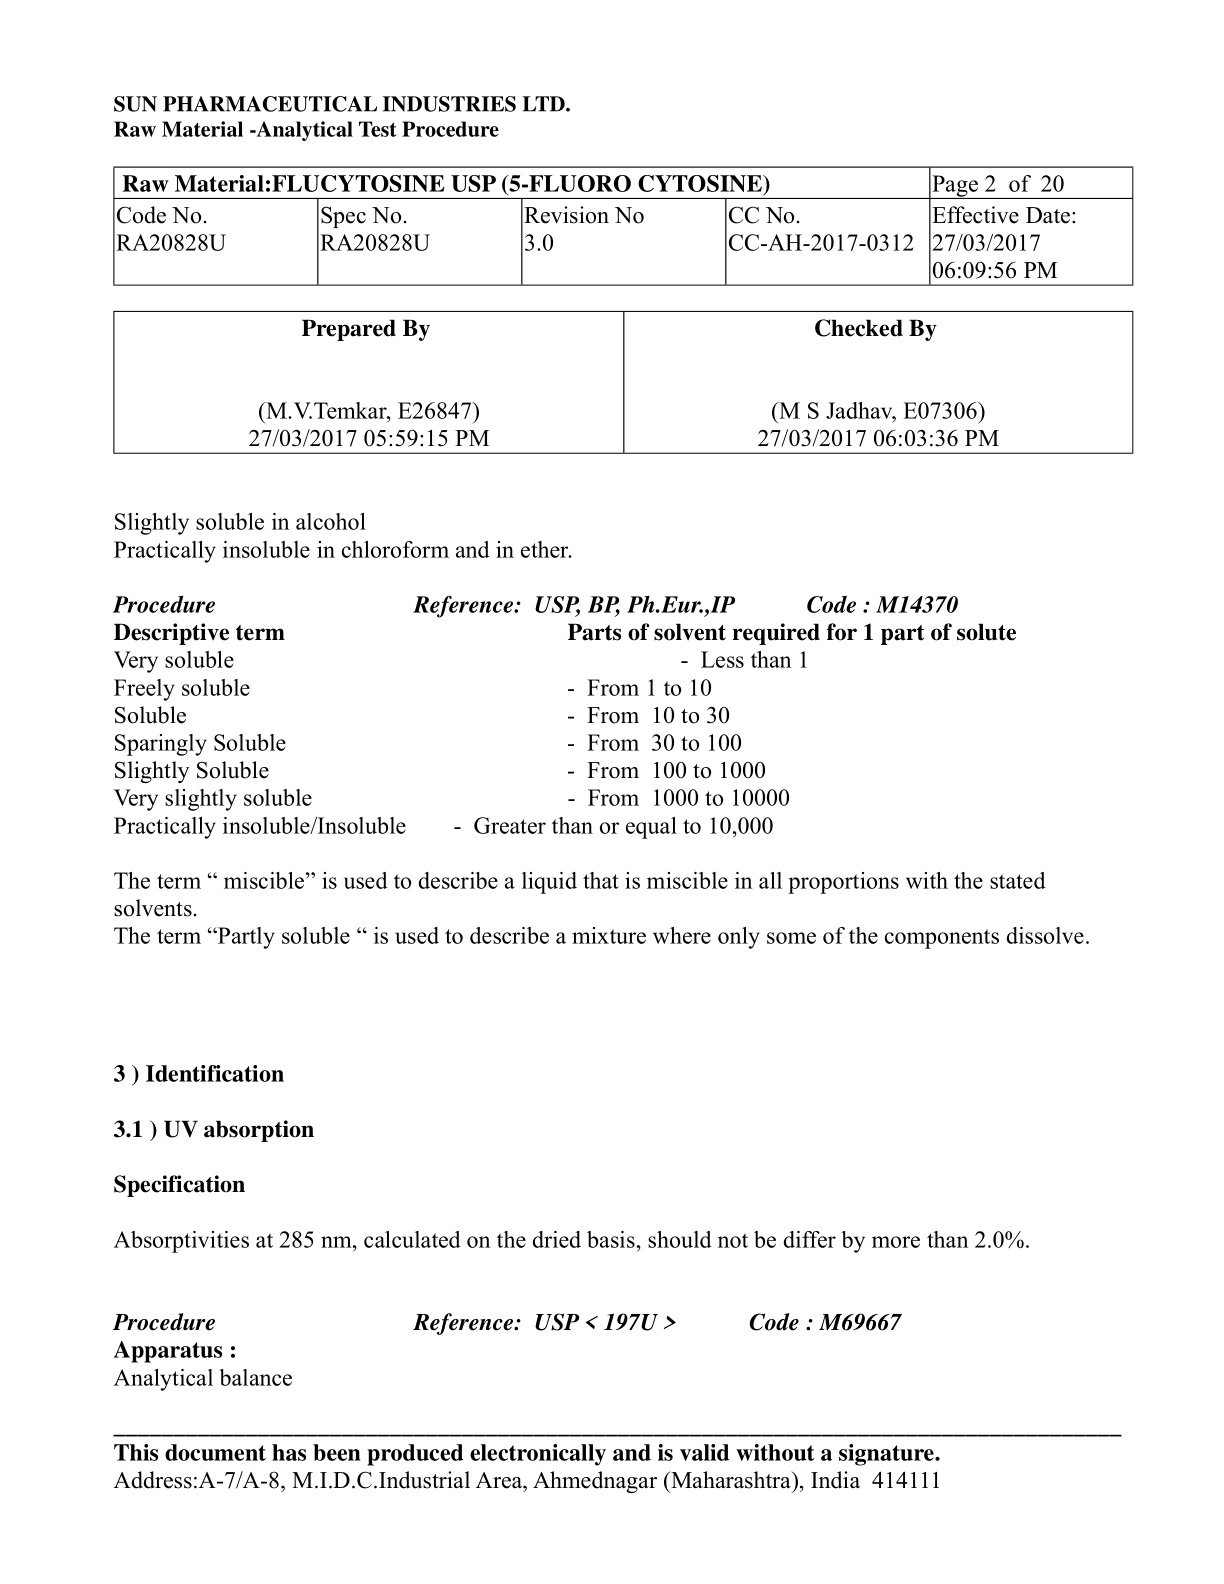merged_cells: (112, 166, 1134, 287)
nolines: (112, 618, 1020, 838)
partial_lined: (112, 310, 1134, 455)
